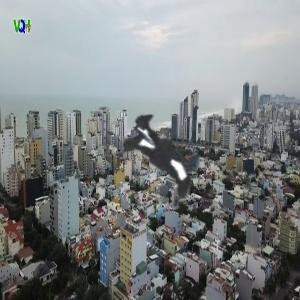drone: (25, 19, 297, 291)
